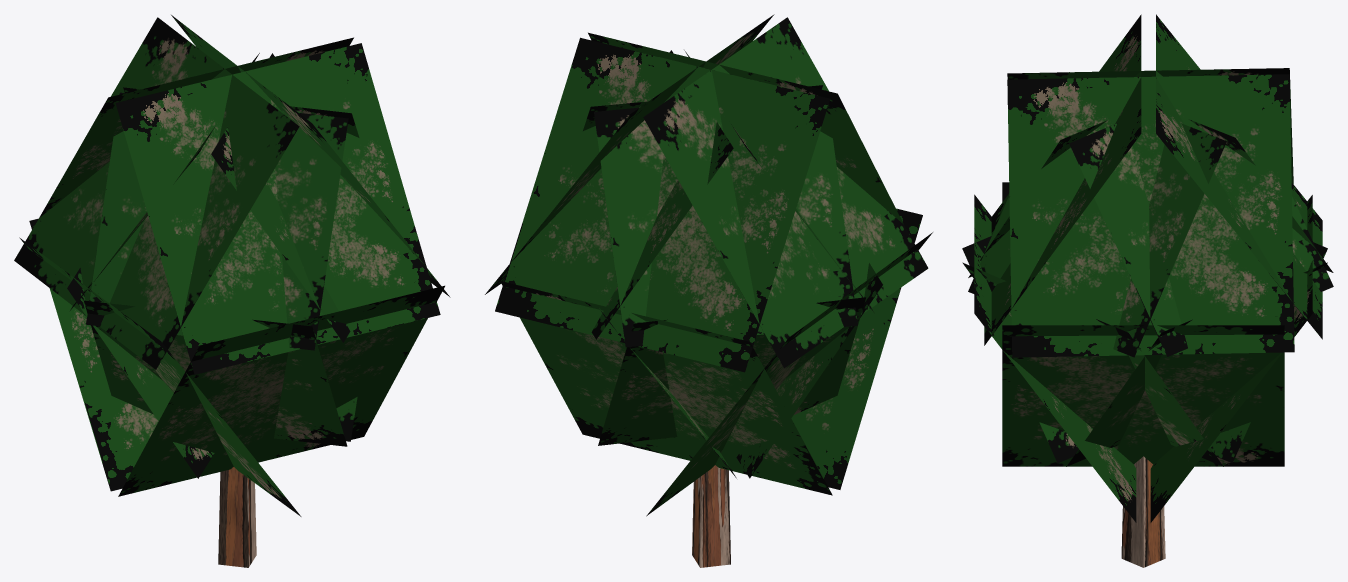
File: mod_natural_tree4.fbx
3 renders of one model, left to right at view 1: azimuth 30°, elevation 25°; view 2: azimuth 150°, elevation 25°; view 3: azimuth 270°, elevation 25°, orthographic. The views are drawn at different scales.
Parts seen in each view (by area): view 1: mesh_tree4_leaves, mesh_tree4_trunk; view 2: mesh_tree4_leaves, mesh_tree4_trunk; view 3: mesh_tree4_leaves, mesh_tree4_trunk.
Boxes of the visible parts, left/top/right/bottom form: mesh_tree4_leaves: left=14, top=15, right=450, bottom=516; mesh_tree4_trunk: left=218, top=467, right=256, bottom=567; mesh_tree4_leaves: left=485, top=14, right=932, bottom=516; mesh_tree4_trunk: left=692, top=465, right=730, bottom=567; mesh_tree4_leaves: left=962, top=14, right=1333, bottom=522; mesh_tree4_trunk: left=1121, top=456, right=1165, bottom=567.
Bounding box in the file's own units: 1685 × 2438 × 1685.
